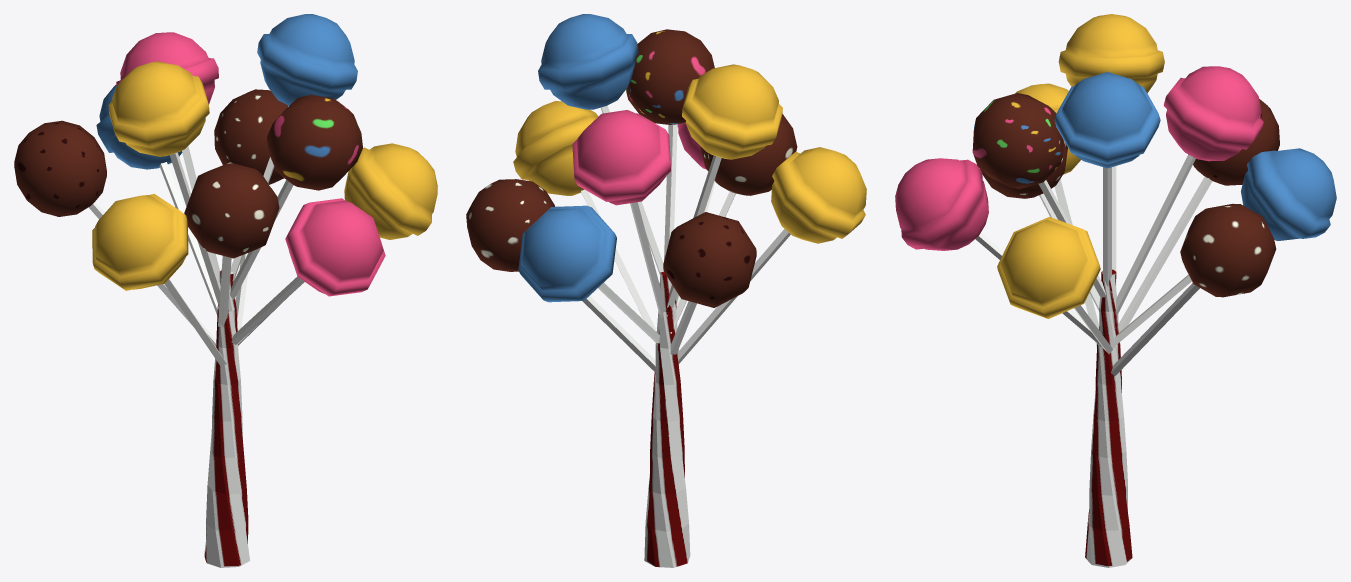
File: brush_candy2.fbx
The picture shows the model from 3 angles, left to right: view 1: azimuth 30°, elevation 25°; view 2: azimuth 150°, elevation 25°; view 3: azimuth 270°, elevation 25°; orthographic projection.
Visible parts, largest first — view 1: brush_candy2; view 2: brush_candy2; view 3: brush_candy2.
Boxes of the visible parts, x1,y1,x2,y2 form: brush_candy2: (14,14,437,567); brush_candy2: (466,14,866,567); brush_candy2: (895,14,1336,567).
Bounding box in the file's own units: 353 × 524 × 403.
